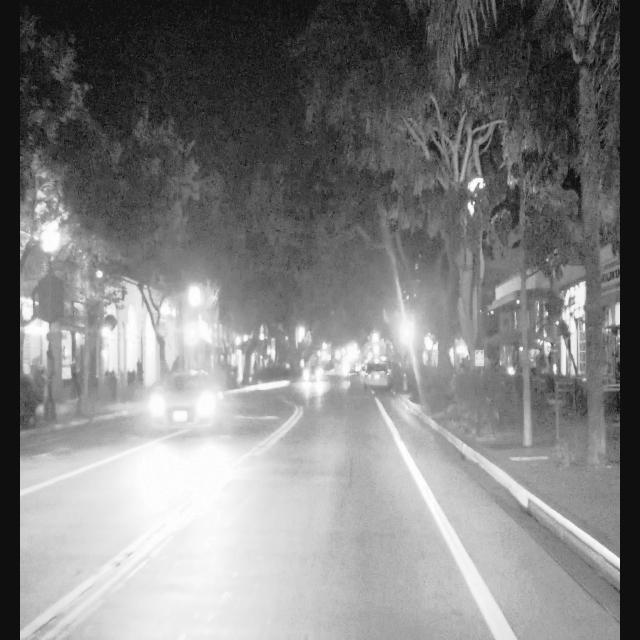Tree: (557, 0, 620, 484), (505, 27, 542, 455), (443, 51, 482, 417)
